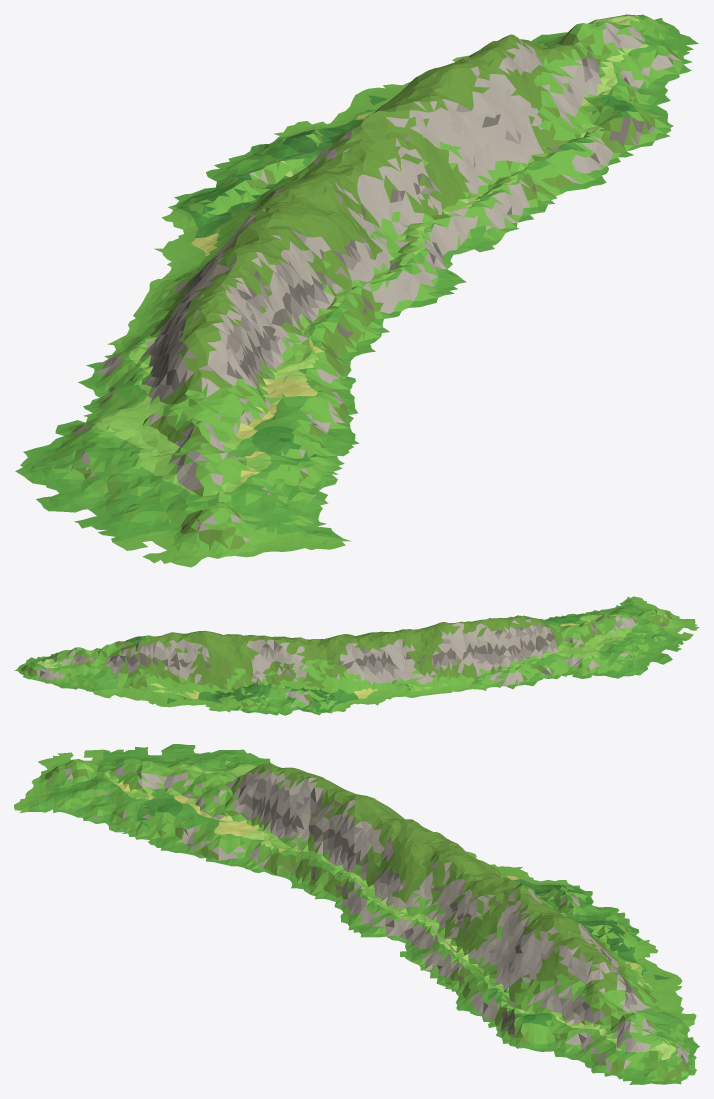
The model's file is Isl-long1-Relief.fbx.
The picture shows the model from 3 angles, top to bottom: view 1: azimuth 30°, elevation 25°; view 2: azimuth 150°, elevation 25°; view 3: azimuth 270°, elevation 25°; orthographic projection. The views are drawn at different scales.
Visible parts, largest first — view 1: Isl-long1-Relief-c11, Isl-long1-Relief-c22, Isl-long1-Relief-c21, Isl-long1-Relief-c32, Isl-long1-Relief-c12; view 2: Isl-long1-Relief-c22, Isl-long1-Relief-c11, Isl-long1-Relief-c12, Isl-long1-Relief-c32; view 3: Isl-long1-Relief-c22, Isl-long1-Relief-c11, Isl-long1-Relief-c32, Isl-long1-Relief-c21.
Part boxes in pixels (x1,y1,x2,y2): Isl-long1-Relief-c11: (15, 226, 359, 567); Isl-long1-Relief-c22: (161, 34, 658, 260); Isl-long1-Relief-c21: (272, 225, 466, 361); Isl-long1-Relief-c32: (531, 14, 698, 139); Isl-long1-Relief-c12: (115, 219, 271, 340); Isl-long1-Relief-c22: (75, 630, 401, 715); Isl-long1-Relief-c11: (404, 596, 699, 690); Isl-long1-Relief-c12: (361, 632, 480, 705); Isl-long1-Relief-c32: (14, 639, 130, 689); Isl-long1-Relief-c22: (398, 821, 696, 1039); Isl-long1-Relief-c11: (14, 744, 400, 877); Isl-long1-Relief-c32: (502, 1009, 699, 1084); Isl-long1-Relief-c21: (286, 822, 401, 940).
Size of the model in its own units: 126 by 10.9 by 107.
